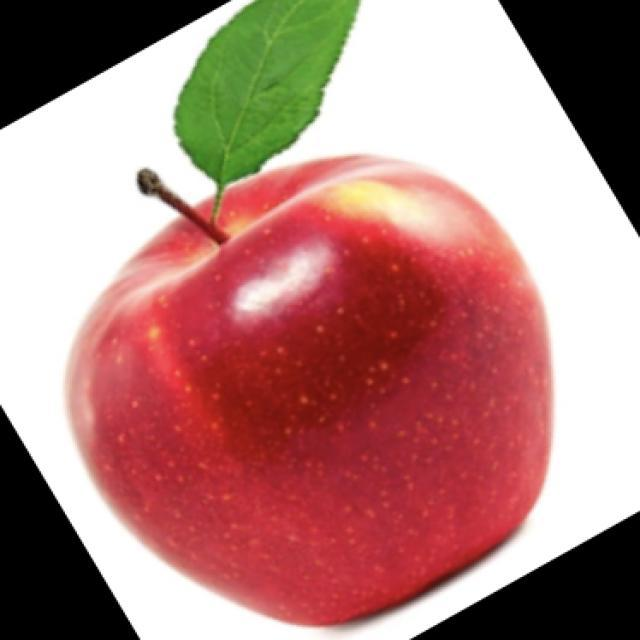Fresh Apple: (66, 155, 562, 637)
